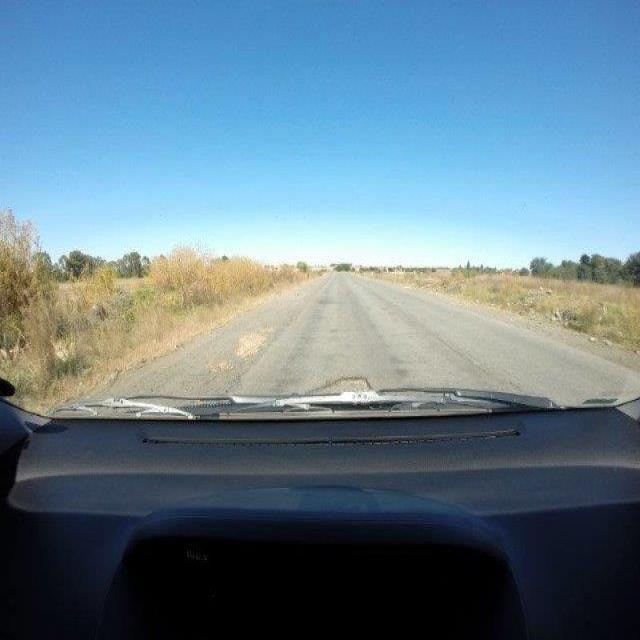lubang: (271, 371, 378, 393)
